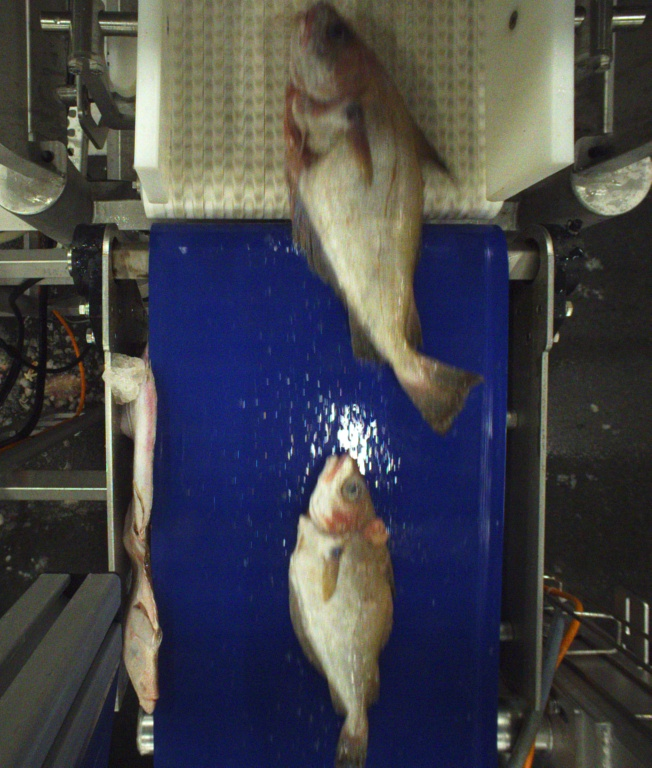BIB: (293, 451, 393, 767)
